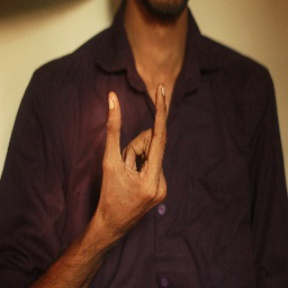U: (98, 83, 175, 212)
